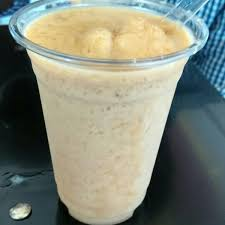jigirthanda: (21, 16, 185, 218)
